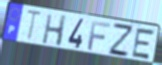4: (67, 18, 84, 50)
E: (130, 27, 157, 61)
F: (87, 20, 112, 52)
H: (41, 13, 68, 48)
T: (25, 9, 44, 44)
Z: (107, 22, 134, 59)
